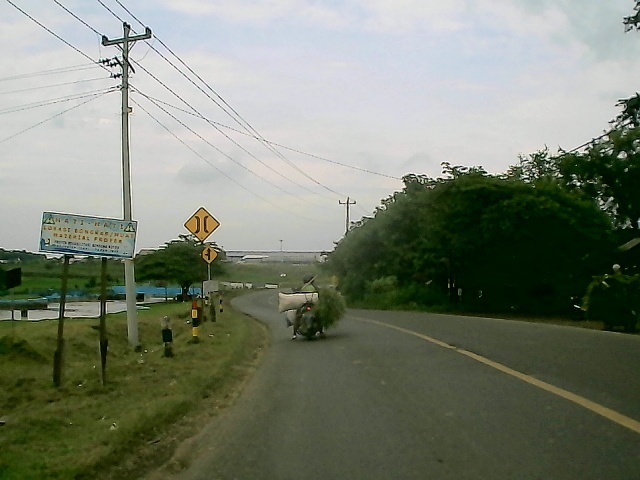Jembatan: (183, 206, 221, 241)
Simpang kiri dengan prioritas: (198, 245, 218, 265)
